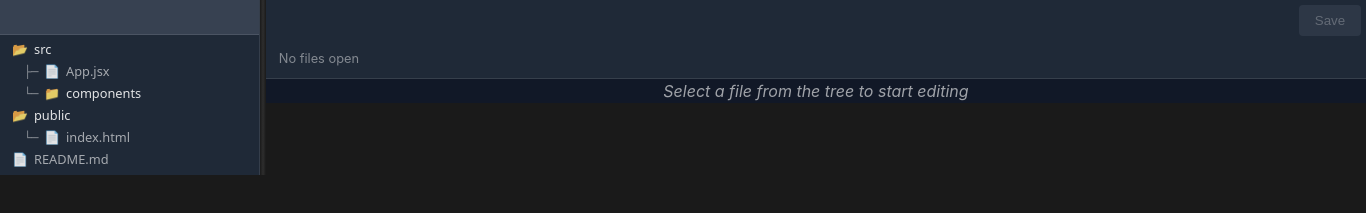
FilesTab Component › rename closes menu when prompt is canceled
Right-click the element with test id "file-item-src/App.jsx": (67, 71) [24,62,110,80]
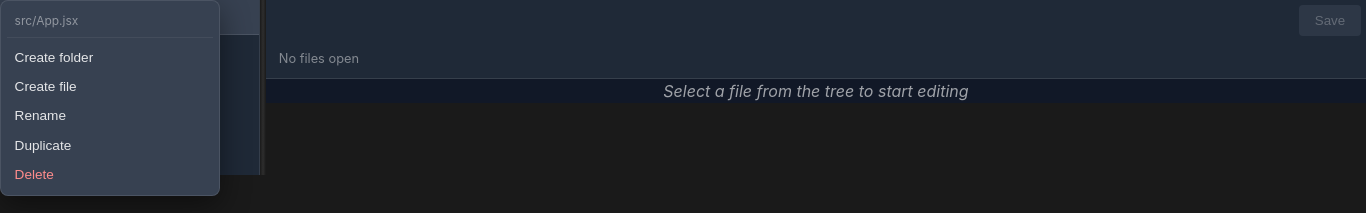
Click the menu item "Rename": (110, 116) [7,101,213,130]
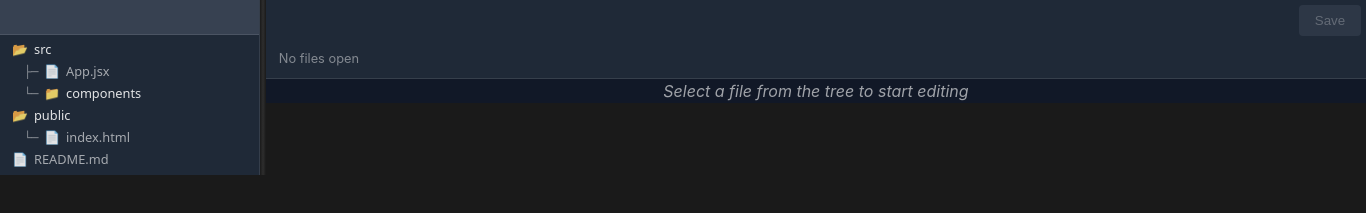
Result: the menu with test id "file-context-menu" is gone
